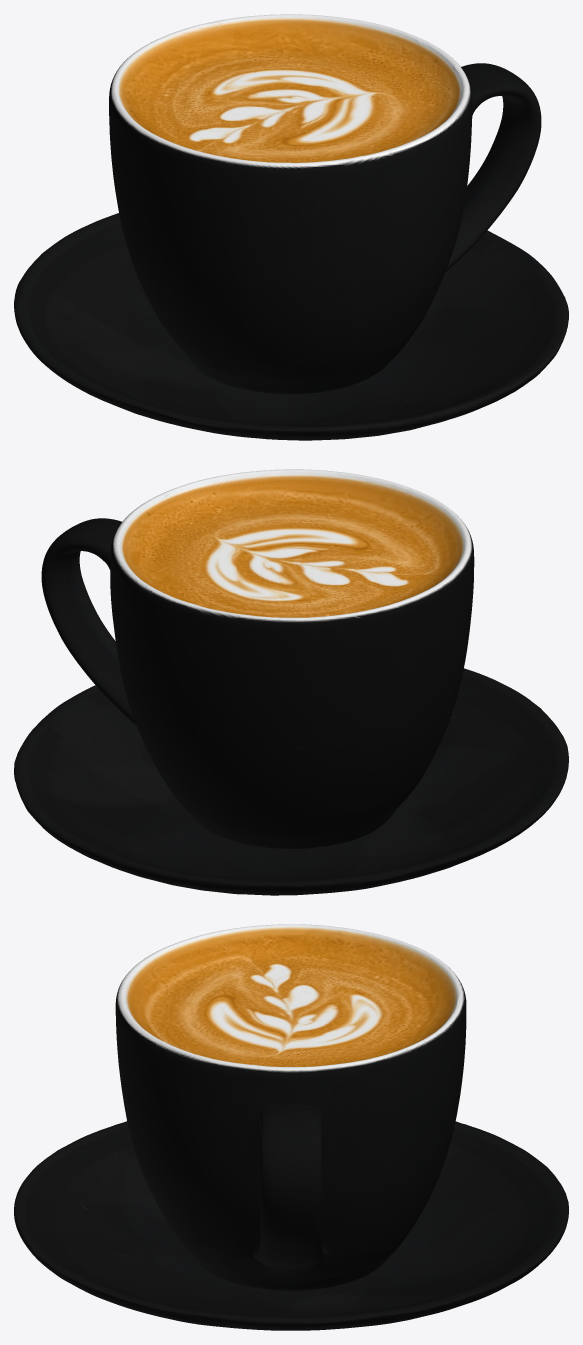
File: latte-art.glb
3 views of the same model, one above another, from view 1: azimuth 30°, elevation 25°; view 2: azimuth 150°, elevation 25°; view 3: azimuth 270°, elevation 25° (orthographic). The views are drawn at different scales.
Bounding box in the file's own units: 1.83 × 1.04 × 1.9.
1 material, 1 textured.
